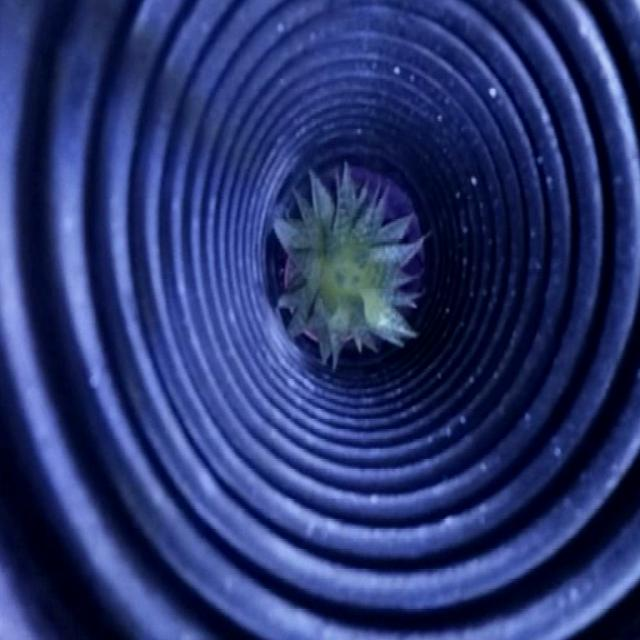leaf: (279, 172, 416, 358)
